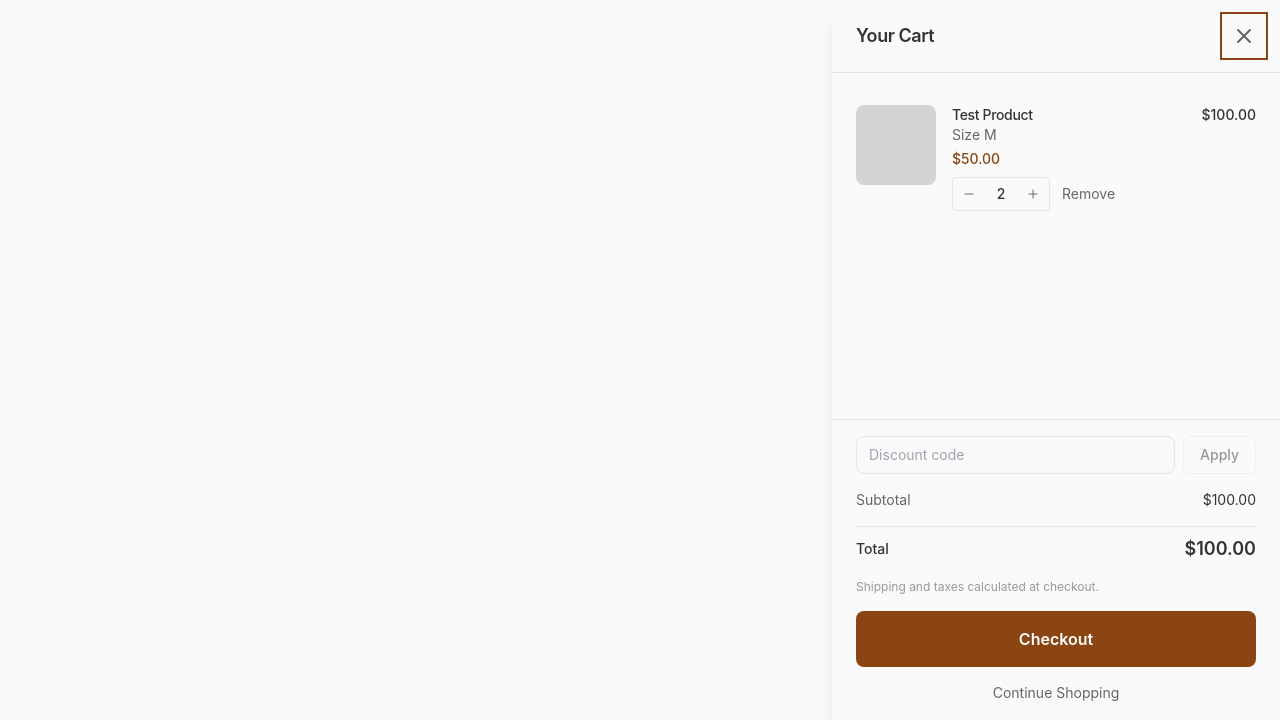
it: CartDrawer › discount code input › enables Apply button when input has value
Type "SAVE10" into the field with placeholder "Discount code" at (1016, 455), box [856,436,1175,474]
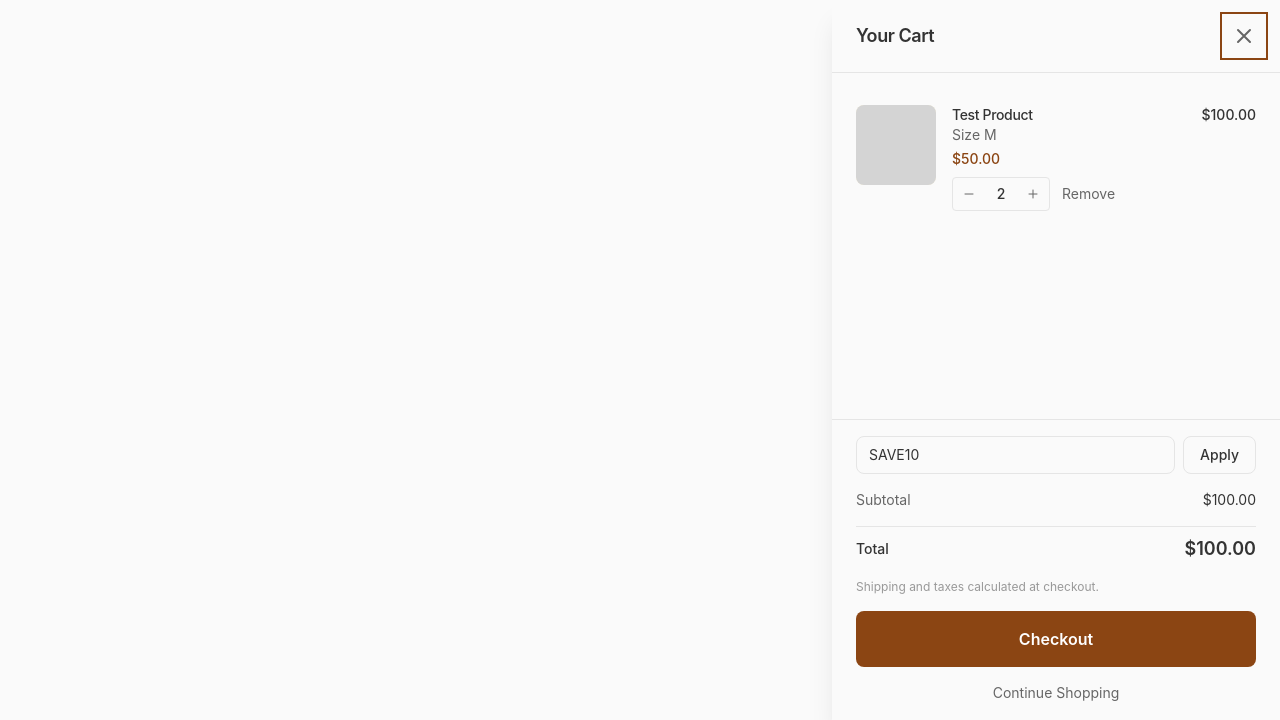
Expected: the button "Apply" is enabled, [1183,436,1256,474]
